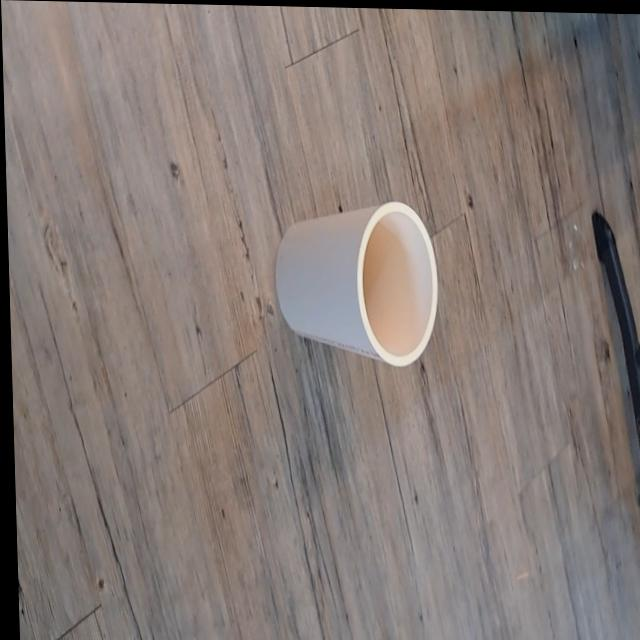CORAL: (257, 184, 449, 398)
